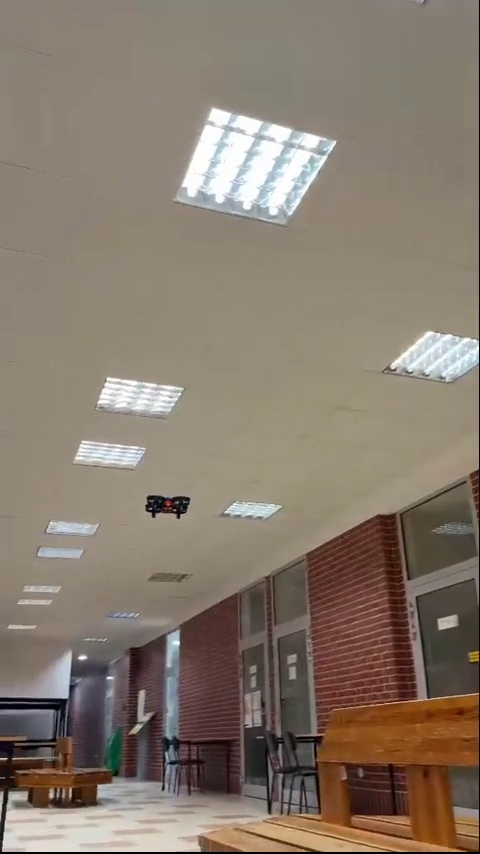drone: (144, 492, 189, 519)
